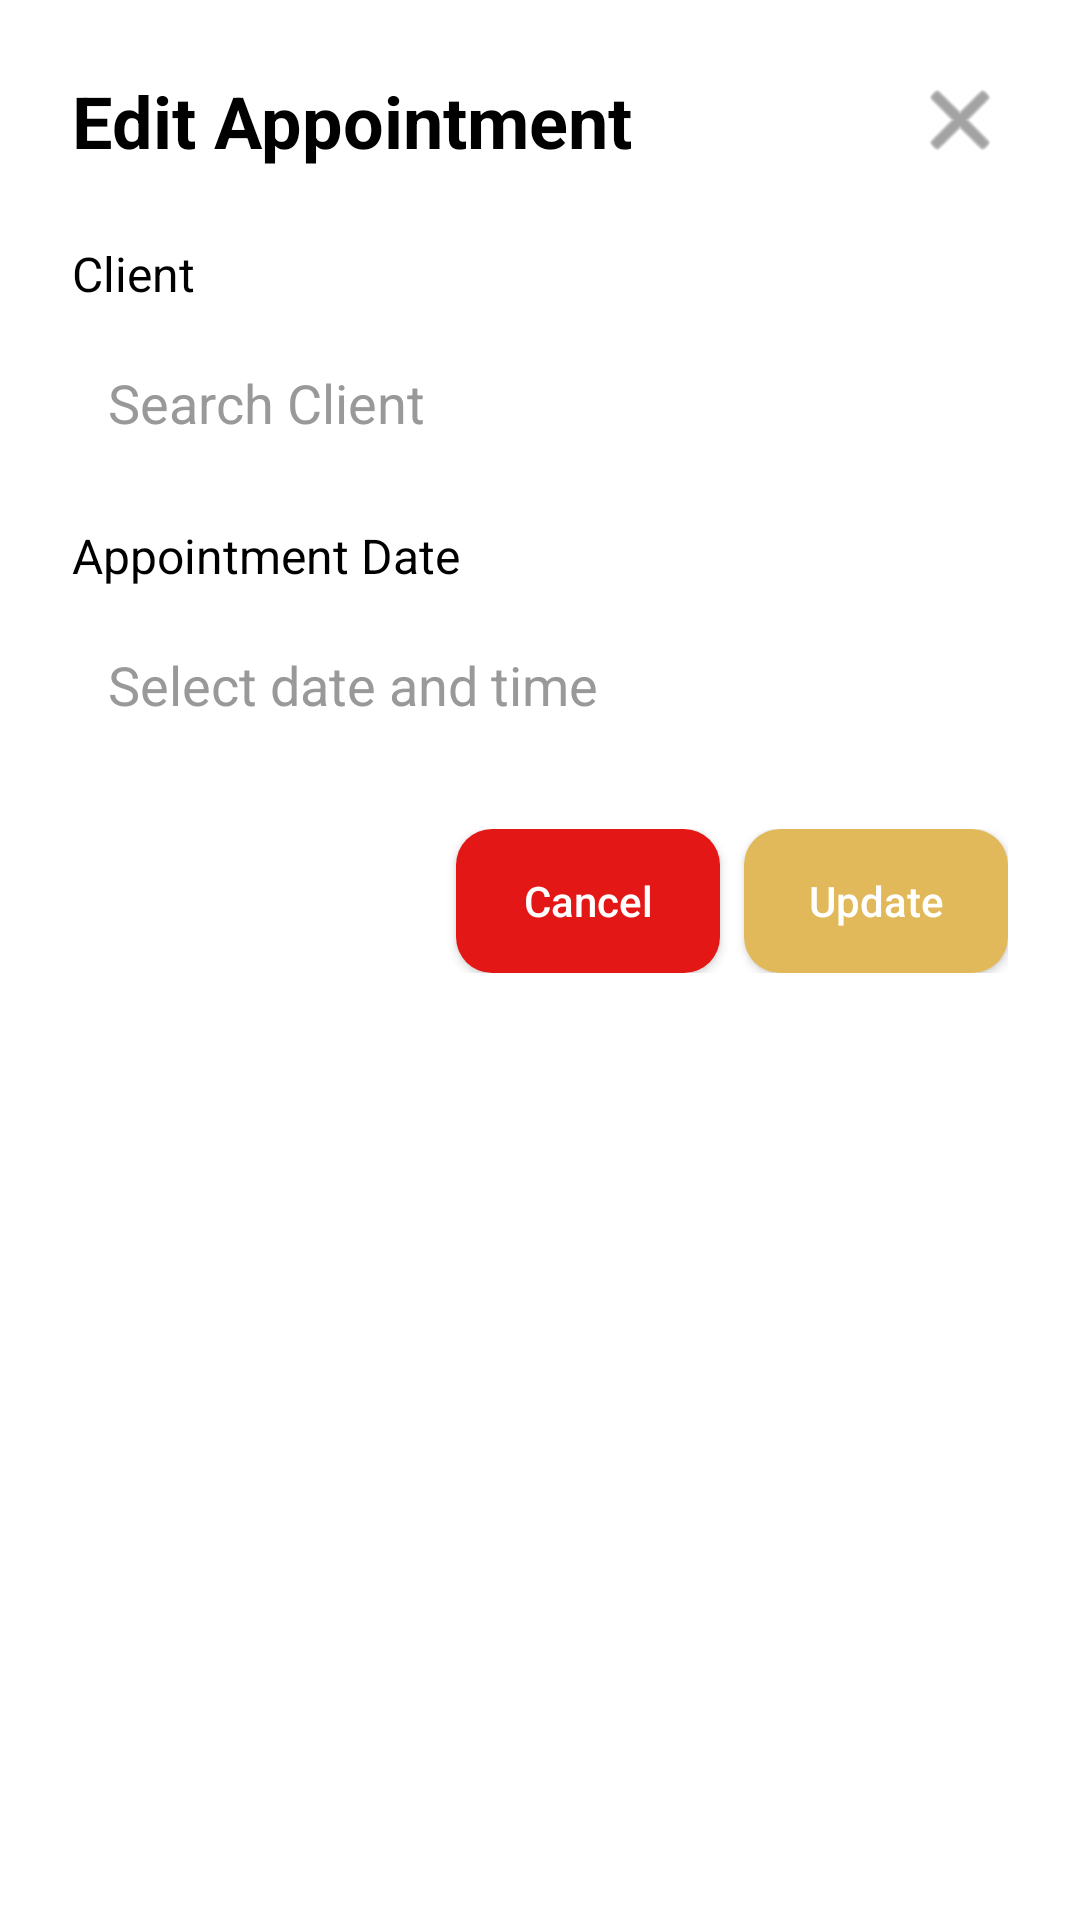

Locate icon controls on the screen. Image size 1080x1920, boxes as (x1, y1, x2, y2).
Close: (930, 90, 990, 150)
